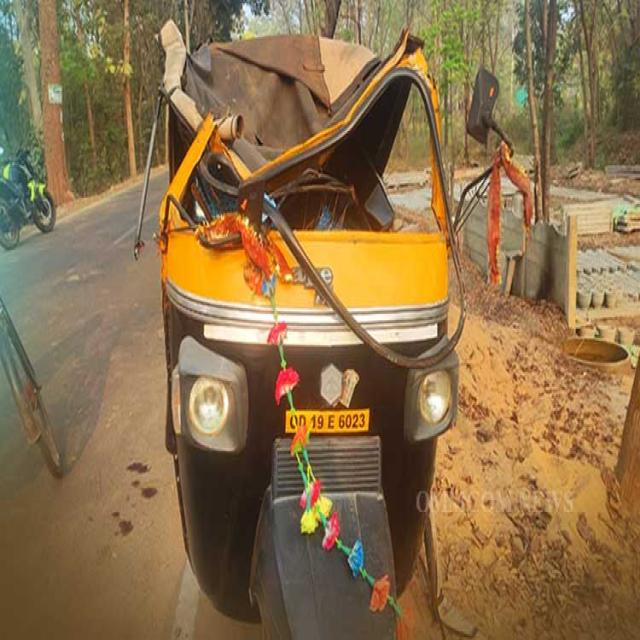accident: (151, 20, 465, 638)
motorcycle: (0, 148, 55, 249)
